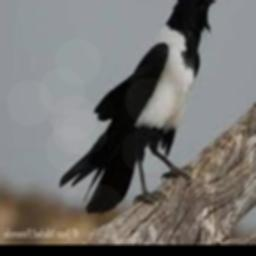Crow: (58, 0, 231, 216)
